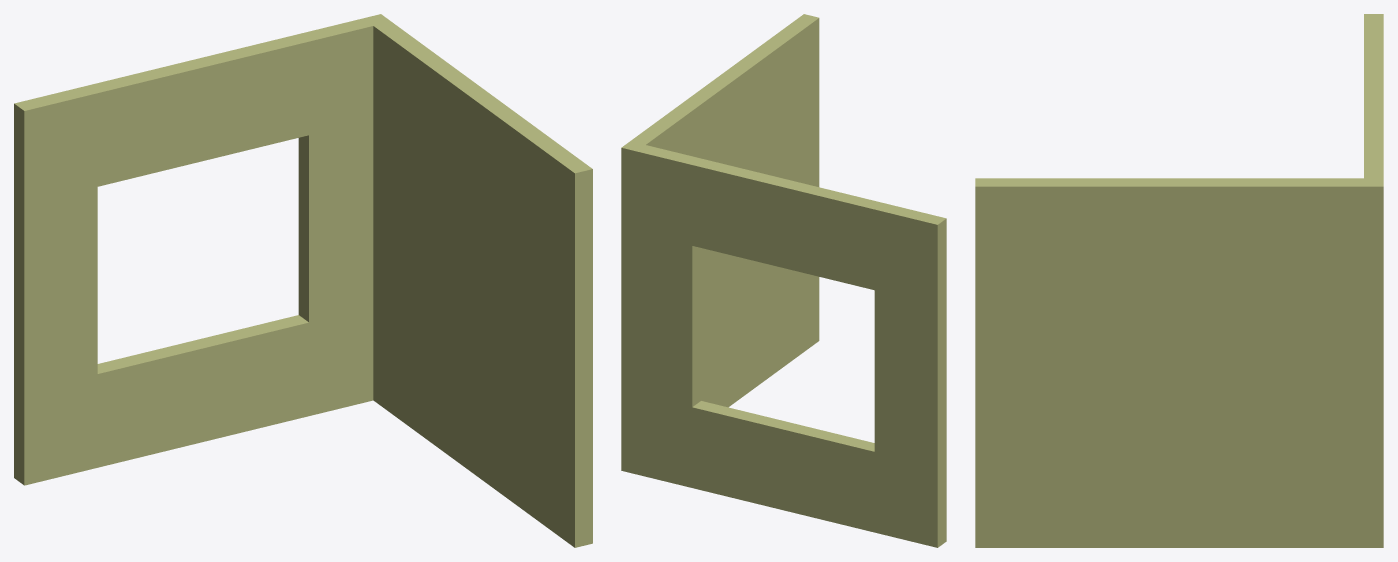
The model's file is Wal_5_Corner_C.fbx.
The picture shows the model from 3 angles, left to right: view 1: azimuth 30°, elevation 25°; view 2: azimuth 150°, elevation 25°; view 3: azimuth 270°, elevation 25°; orthographic projection. The views are drawn at different scales.
Parts seen in each view (by area): view 1: polySurface33; view 2: polySurface33; view 3: polySurface33.
Part boxes in pixels (x1,y1,x2,y2): polySurface33: (14, 14, 592, 547); polySurface33: (621, 14, 946, 547); polySurface33: (975, 14, 1383, 547).
Size of the model in its own units: 4.1 by 4 by 4.1.
1 material, 1 textured.
